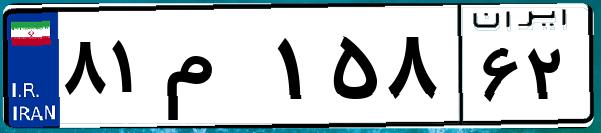1: (270, 28, 330, 110), (110, 28, 158, 98)
2: (525, 38, 570, 115)
5: (330, 28, 385, 110)
6: (475, 38, 525, 113)
8: (385, 28, 445, 110), (57, 26, 110, 100)
م: (158, 20, 270, 120)
